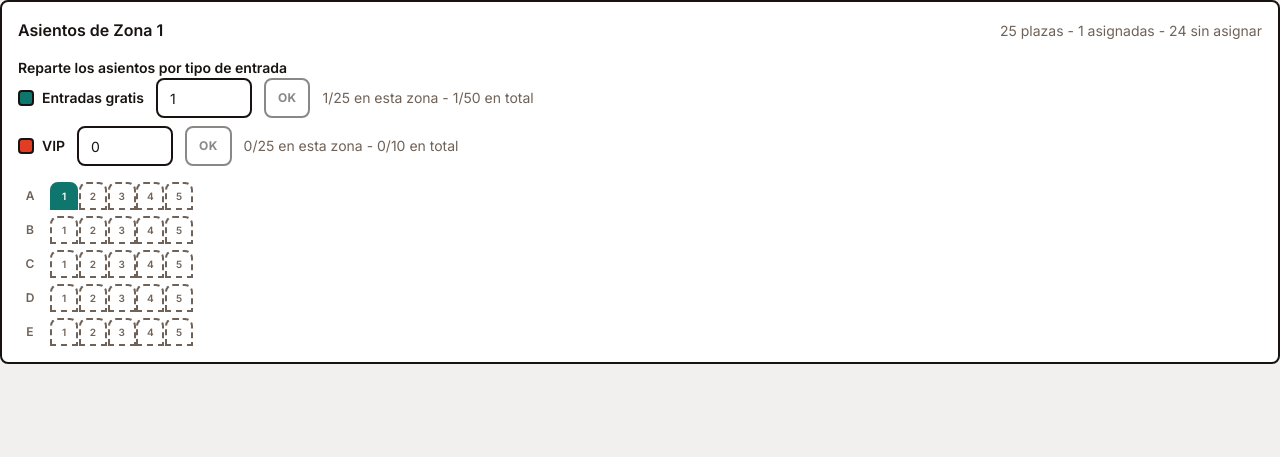
Scenario: ZoneSeatEditor › moving a seat › moves the ticket type onto a free seat
What coordinates should you click on to do the following:
click the button named "Asiento A1 Entradas gratis"
I would click on:
 (64, 196)
Its box is [50, 182, 78, 210].
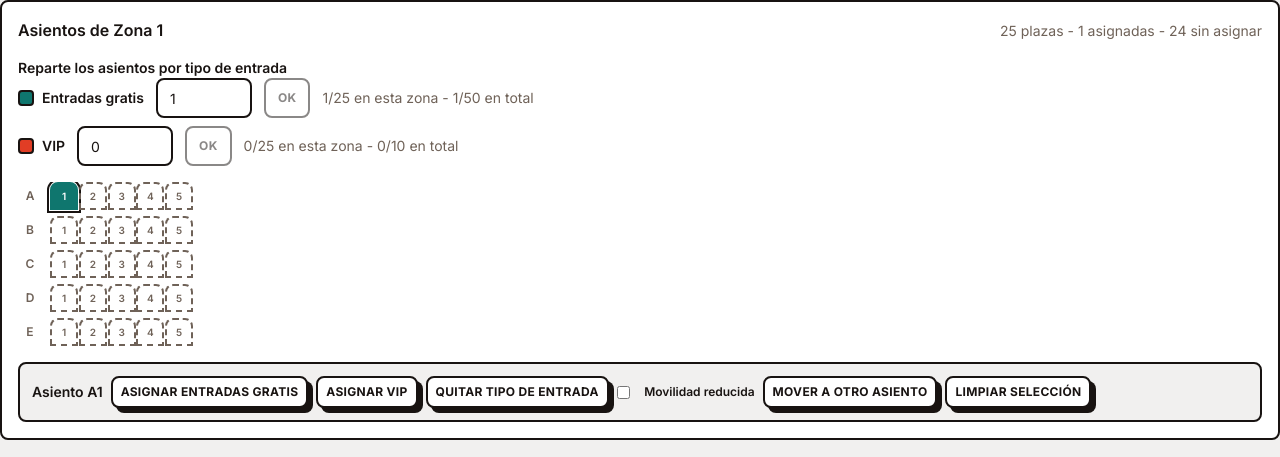
What coordinates should you click on to do the following:
click the button "Mover a otro asiento"
I would click on:
 (850, 392)
Its box is [763, 376, 938, 408].
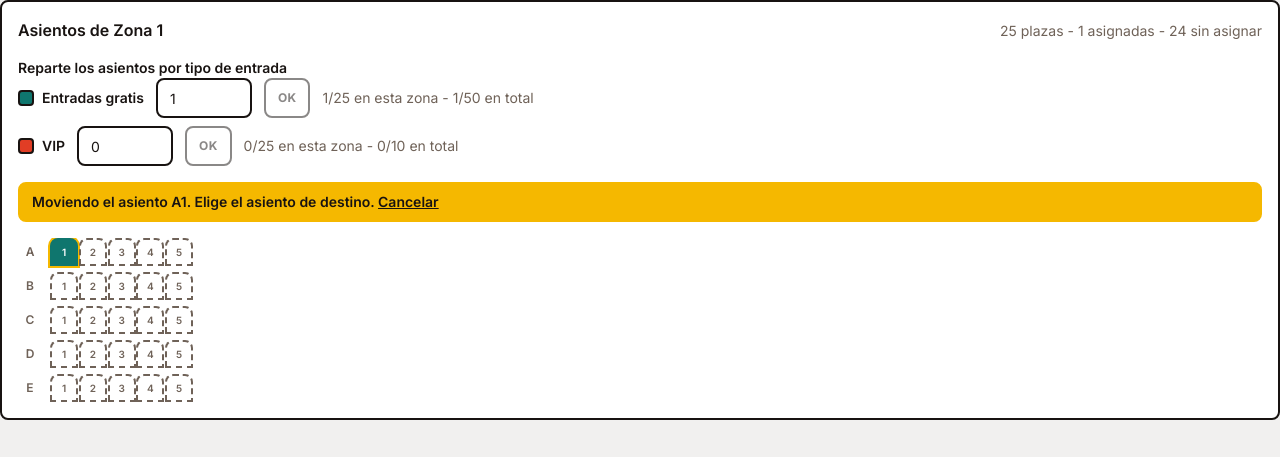
Check: the message shows "Moviendo el asiento A1", box [18, 182, 1262, 222]
What coordinates should you click on to do the following:
click the 4th button "4"
I would click on:
 (150, 354)
Its box is [136, 340, 164, 368].
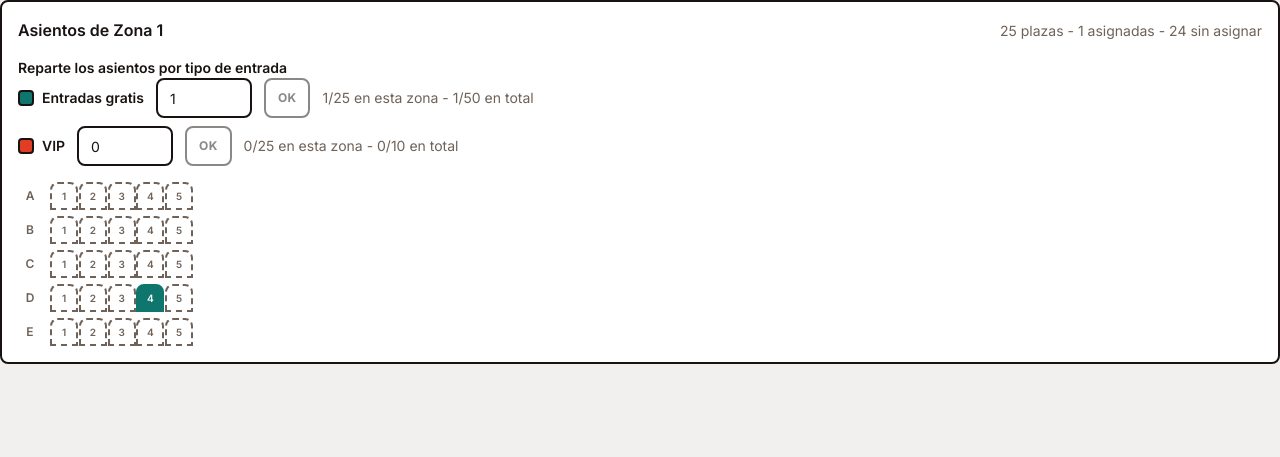
Check: the button named "Asiento A1 sin asignar" is shown, box [50, 182, 78, 210]
Check: the button named "Asiento D4 Entradas gratis" is shown, box [136, 284, 164, 312]
